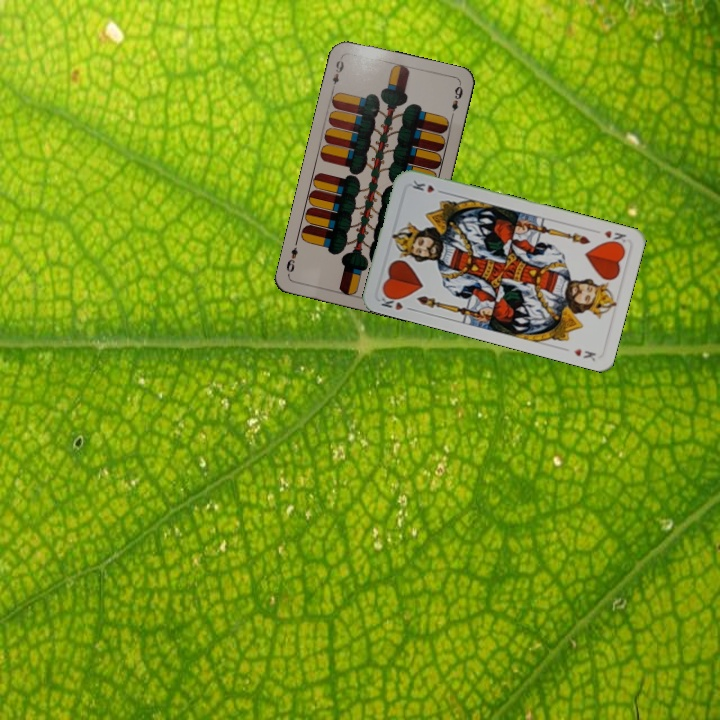E9: (327, 53, 347, 93)
HK: (377, 289, 416, 313), (600, 226, 629, 248)
